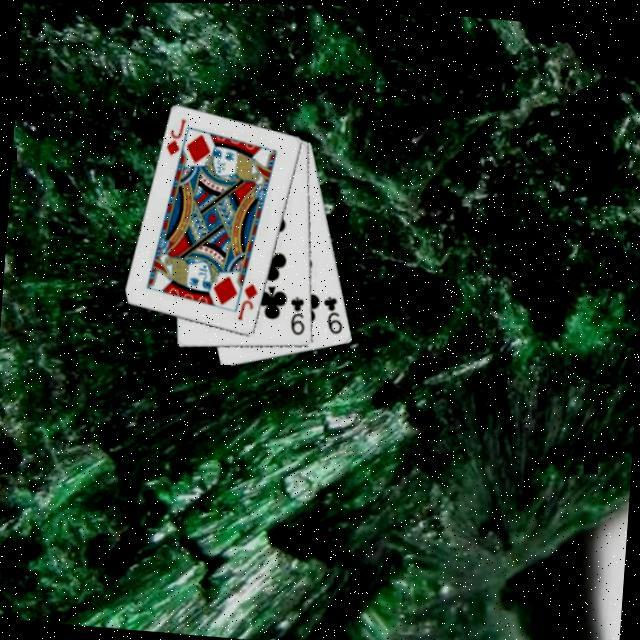9C: (316, 292, 345, 338), (283, 293, 308, 338)
JD: (232, 280, 259, 324), (160, 116, 187, 160)
